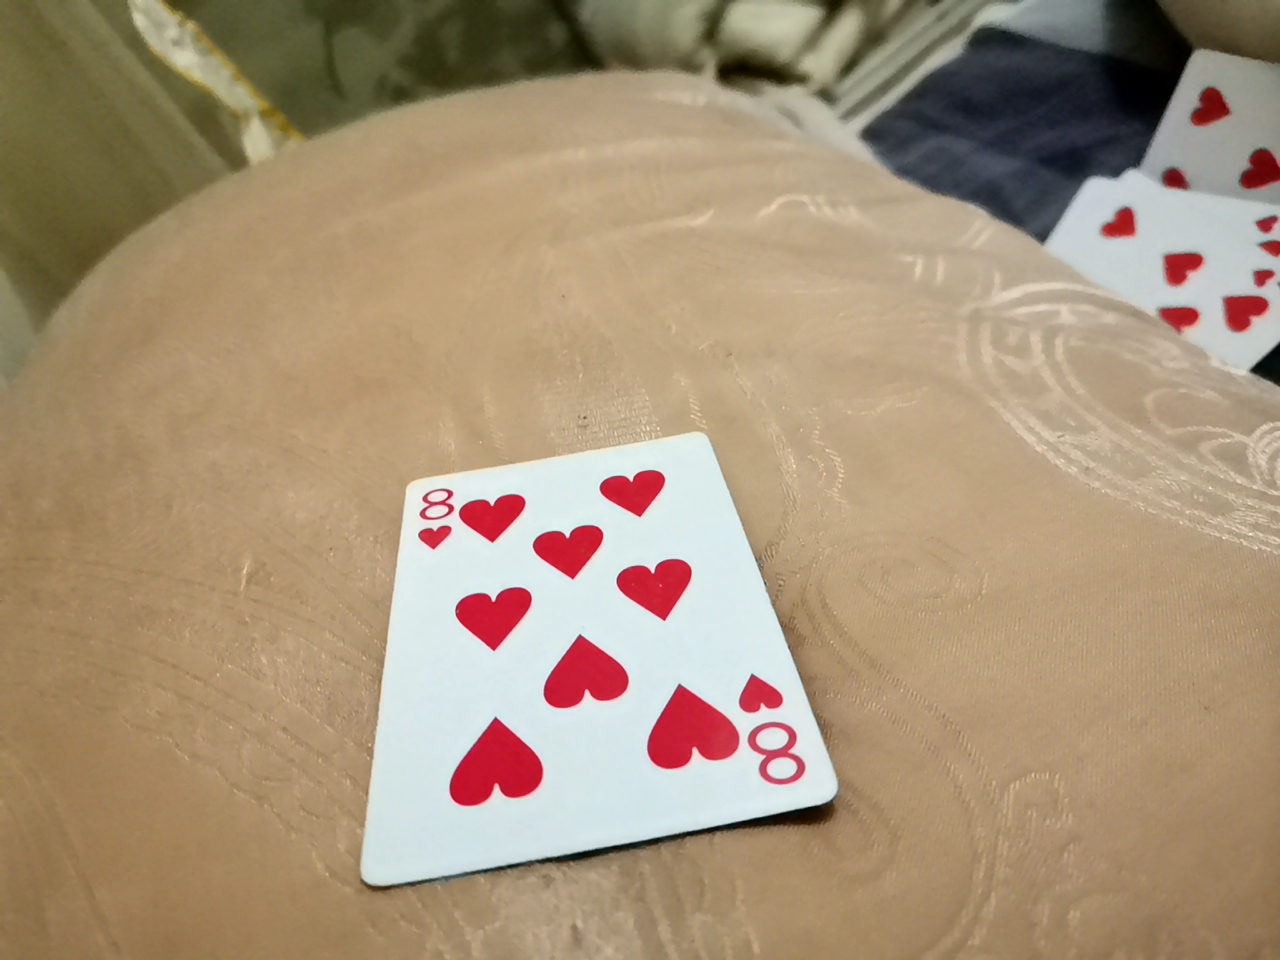hx 8: (351, 434, 811, 924)
